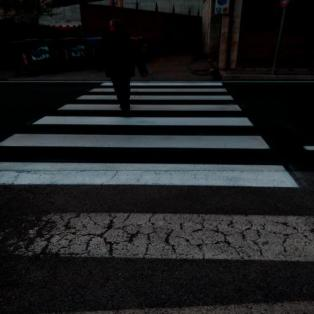Paso de Cebra: (0, 156, 314, 268), (25, 100, 267, 130)
